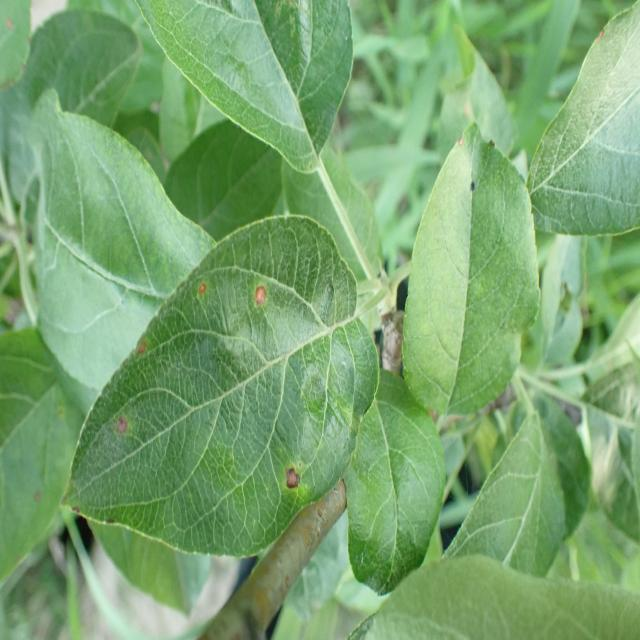Black Rot: (274, 448, 314, 505), (249, 270, 276, 333), (194, 266, 215, 316), (112, 408, 132, 457), (131, 328, 149, 371)
